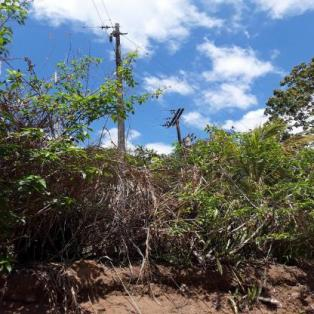Poste: (111, 21, 126, 228), (174, 113, 185, 145)
